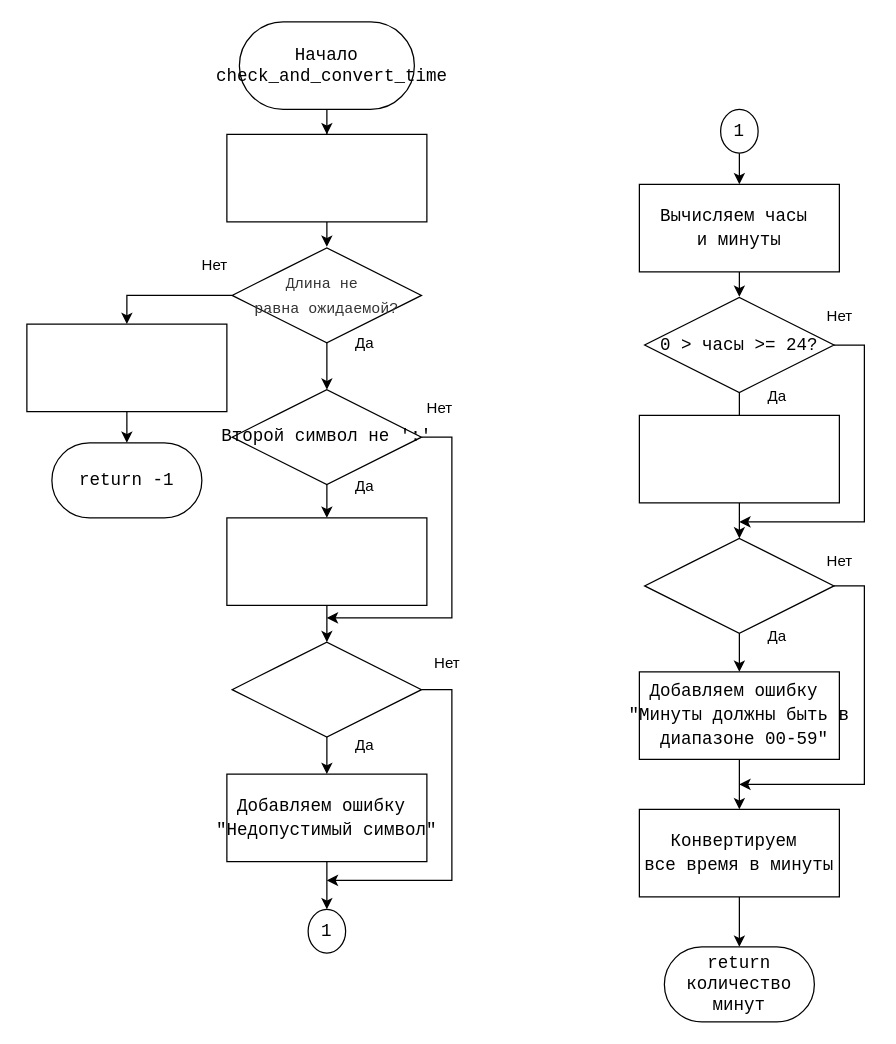
The diagram is 896 pixels wide and 1044 high, and some of its shapes have lost their labels. Each missing label, with the box of its shape:
0 > минуты >= 60?: (643, 537, 834, 633)
Добавляем ошибку " Неправильная длина ": (26, 323, 227, 412)
Добавляем ошибку " Неправильный разделитель ": (226, 517, 427, 605)
Добавляем ошибку " Часы должны быть в диапазоне 00-23 ": (638, 414, 839, 503)
Есть не цифры (кроме позиции 2)?: (231, 641, 422, 737)
Инициализация переменных: (226, 133, 427, 222)
